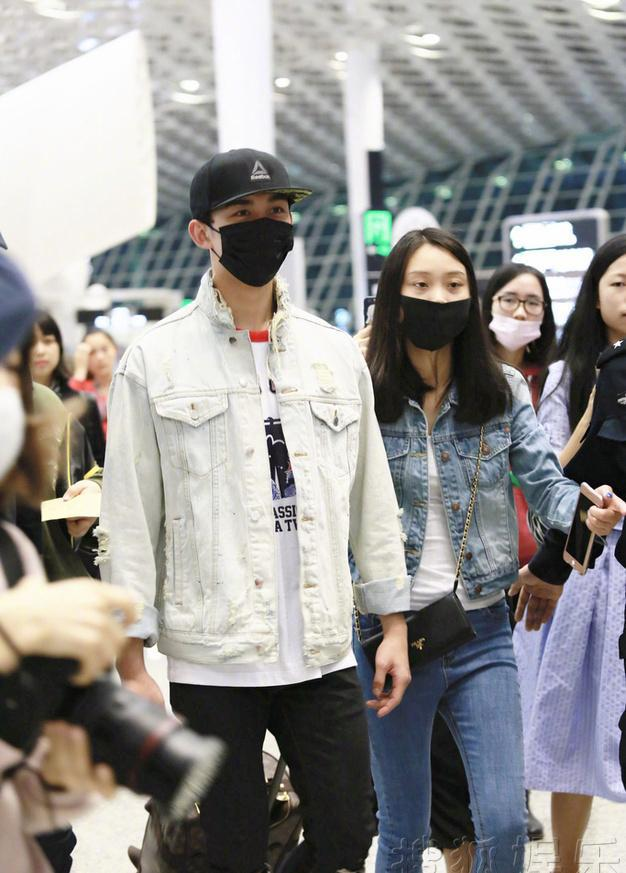NONE: (602, 254, 626, 332), (25, 330, 61, 378), (87, 341, 116, 375)
OK: (215, 194, 297, 280)
WRONG: (399, 264, 470, 344), (492, 285, 546, 352)
